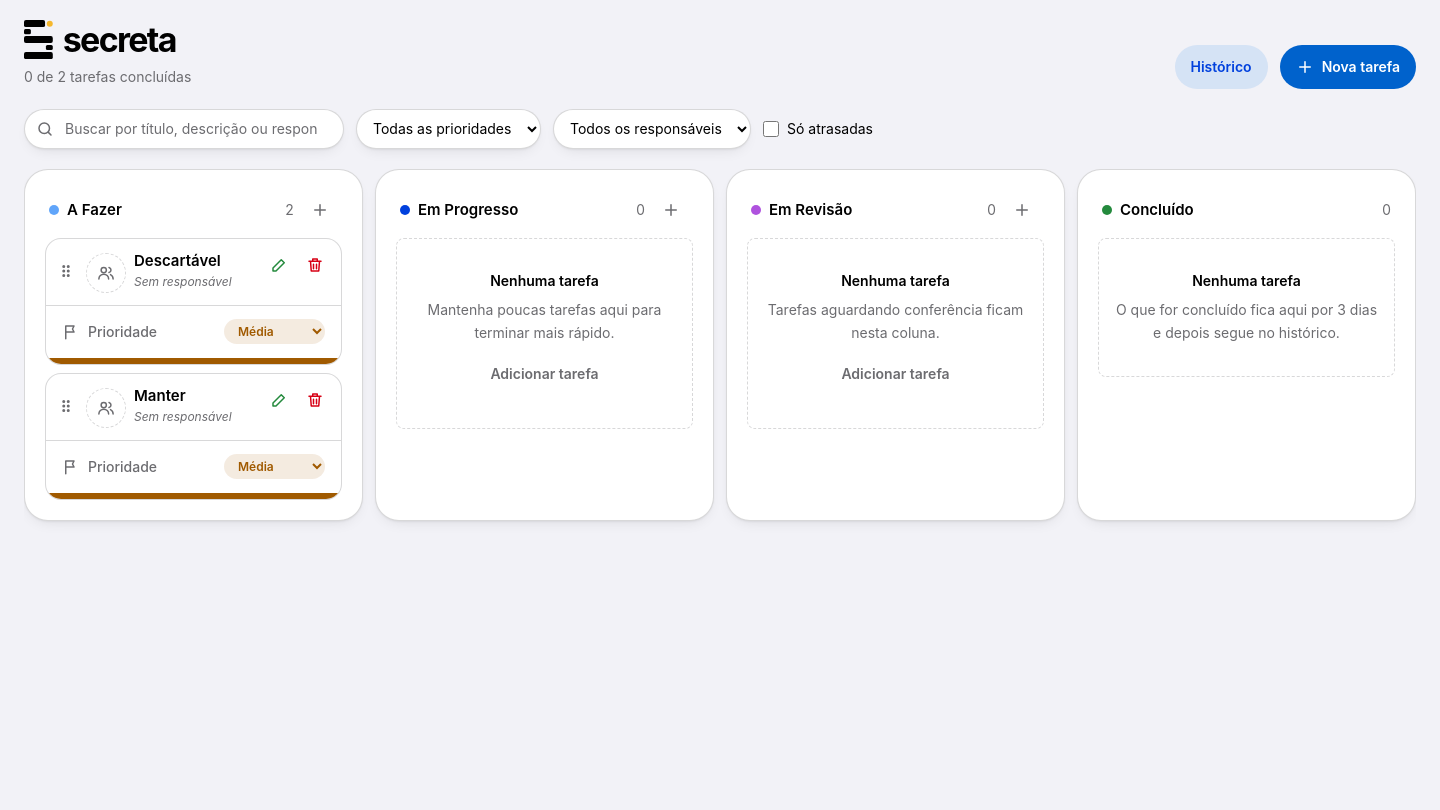
Scenario: App › confirma a exclusão antes de remover
The image size is (1440, 810).
Click the button named "Excluir Manter": (315, 400) [297, 382, 333, 418]
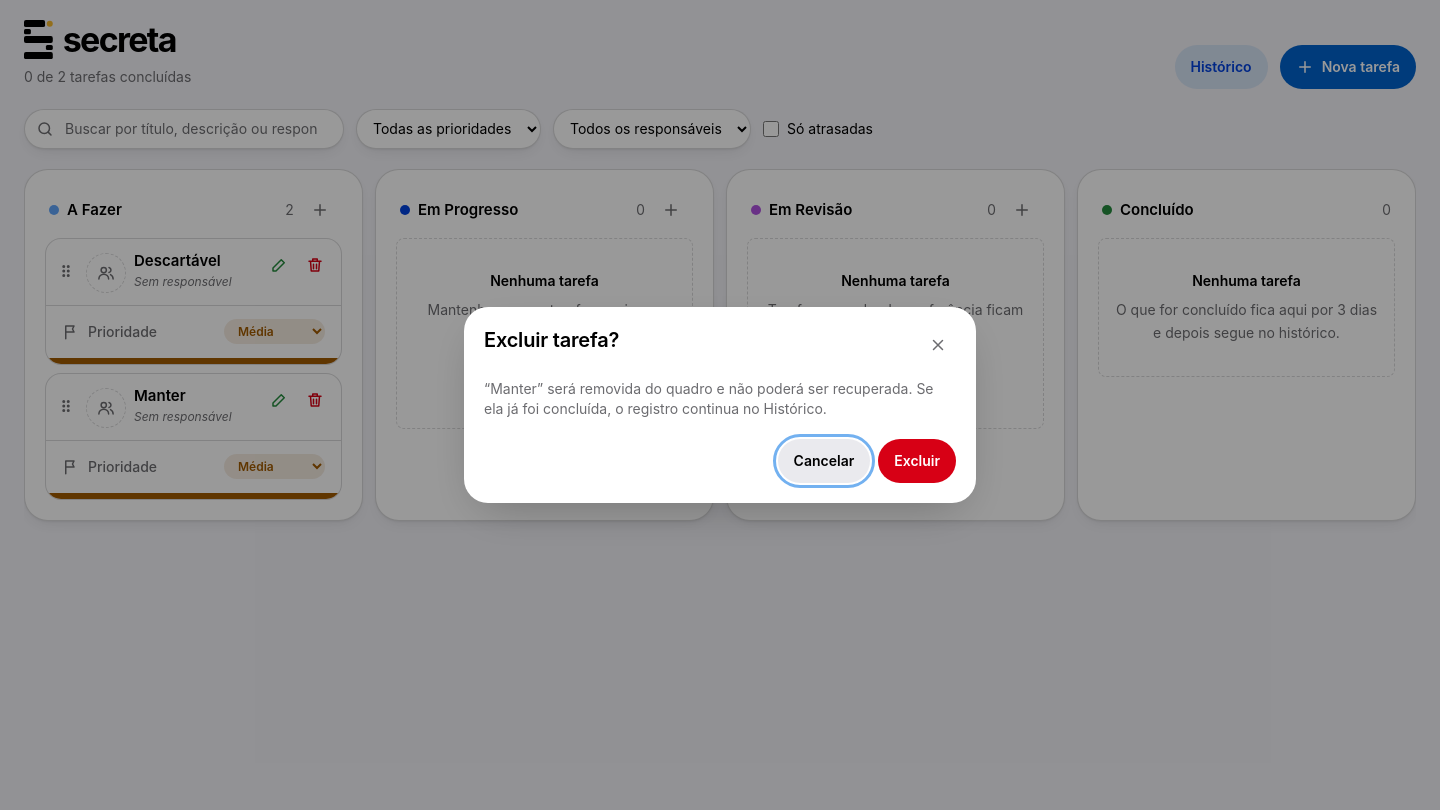
Click the button "Cancelar": (824, 461) [778, 439, 870, 483]
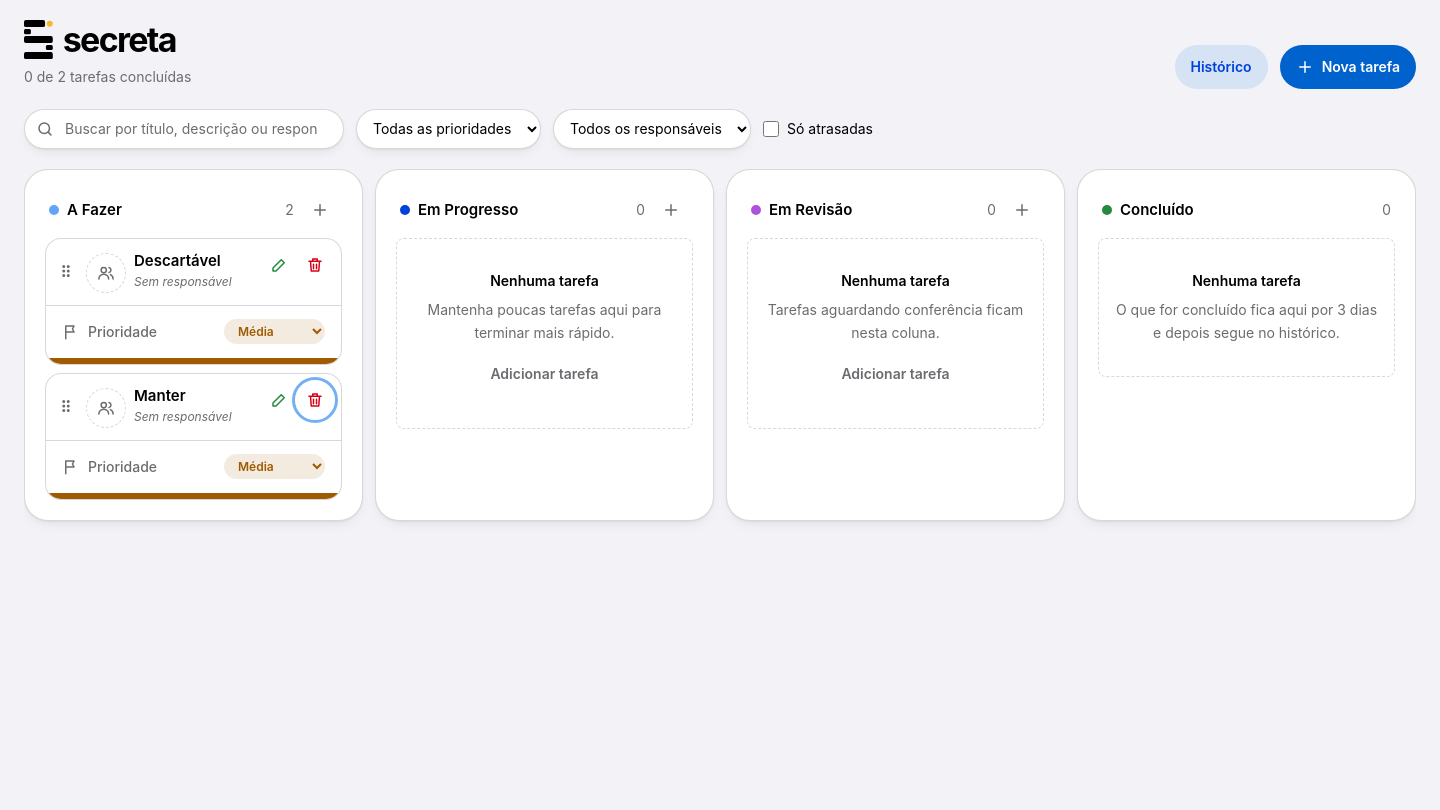
Expected: the heading "Manter" is shown, [134, 386, 186, 405]
Click the button named "Excluir Descartável": (315, 265) [297, 247, 333, 283]
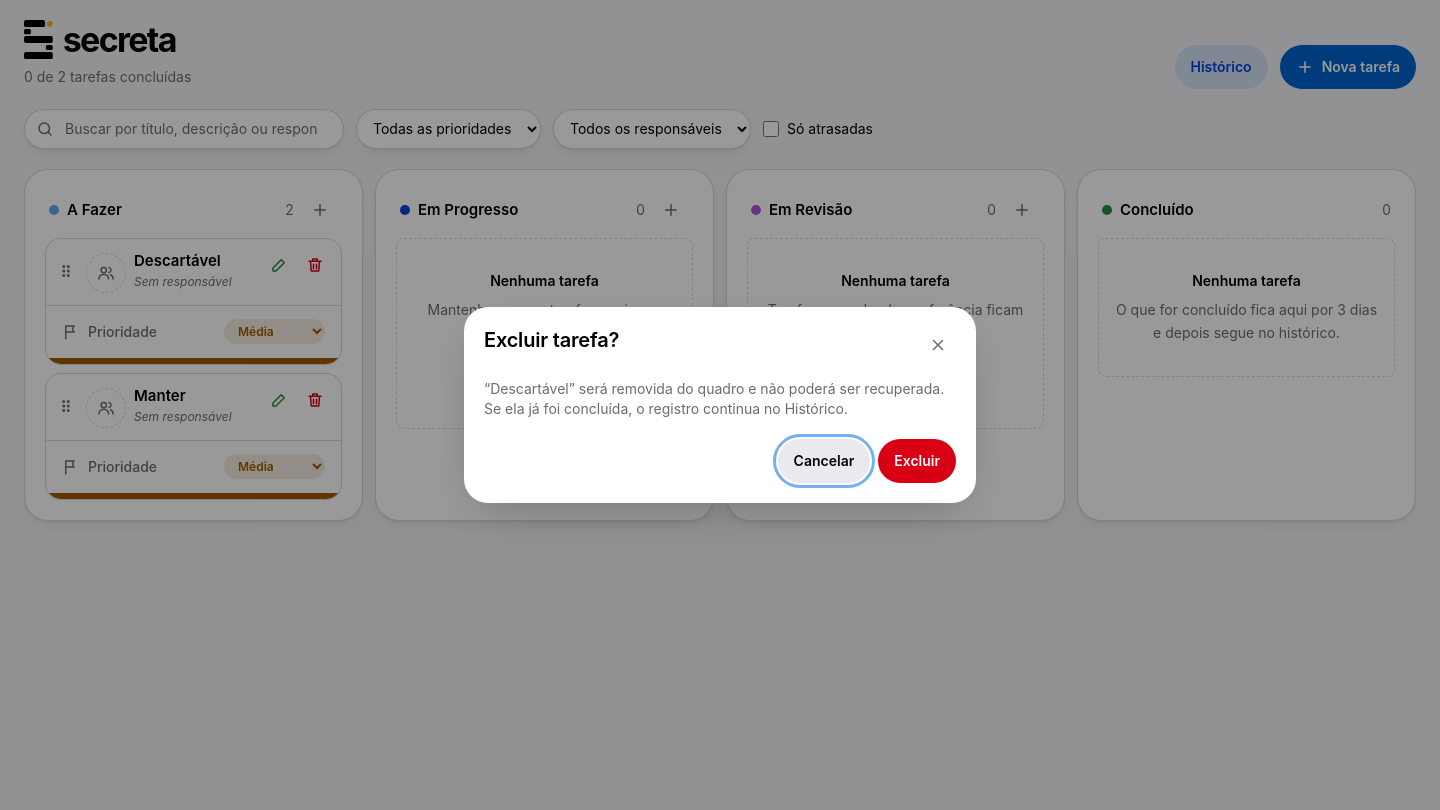
Click the button "Excluir": (917, 461) [878, 439, 956, 483]
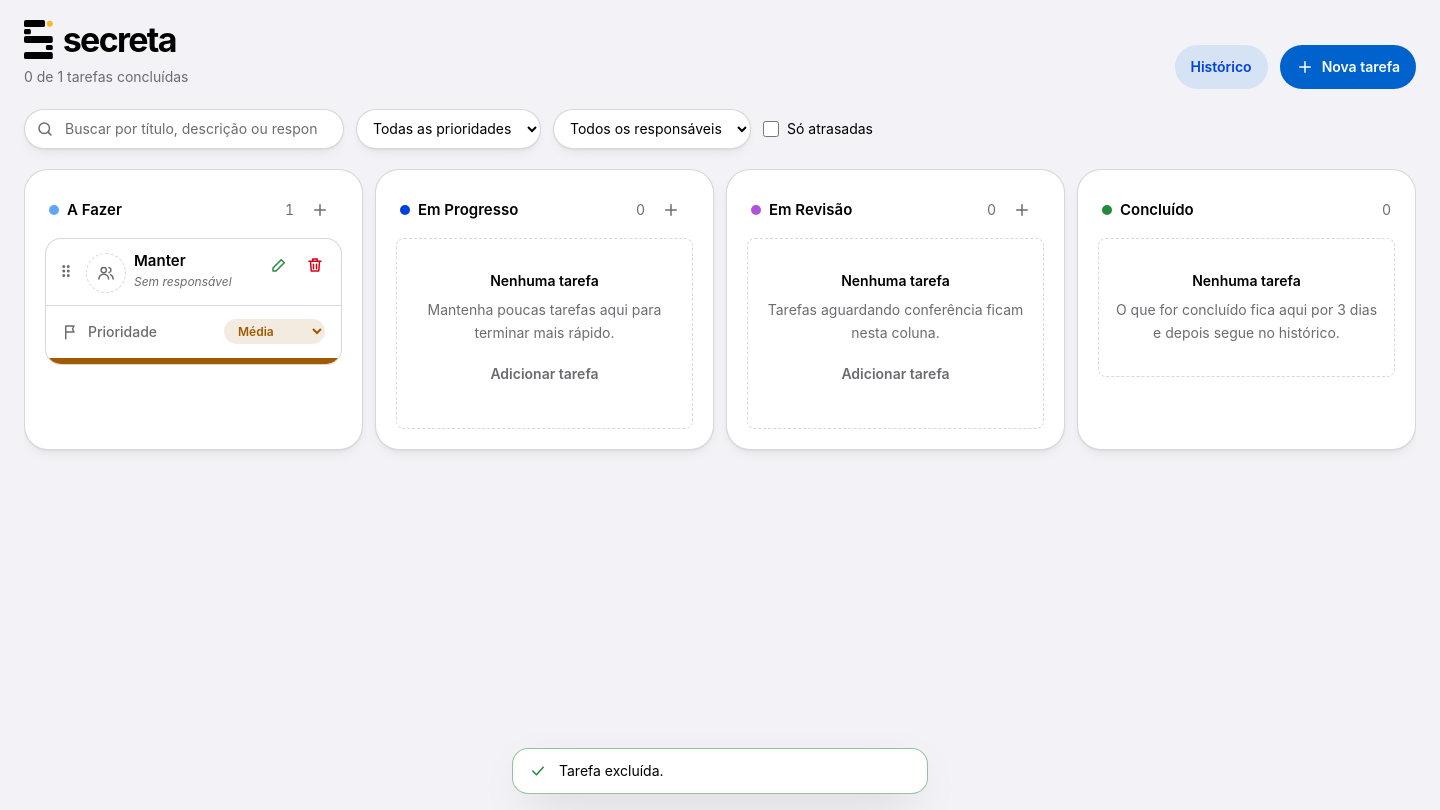
Expected: the heading "Descartável" is gone
